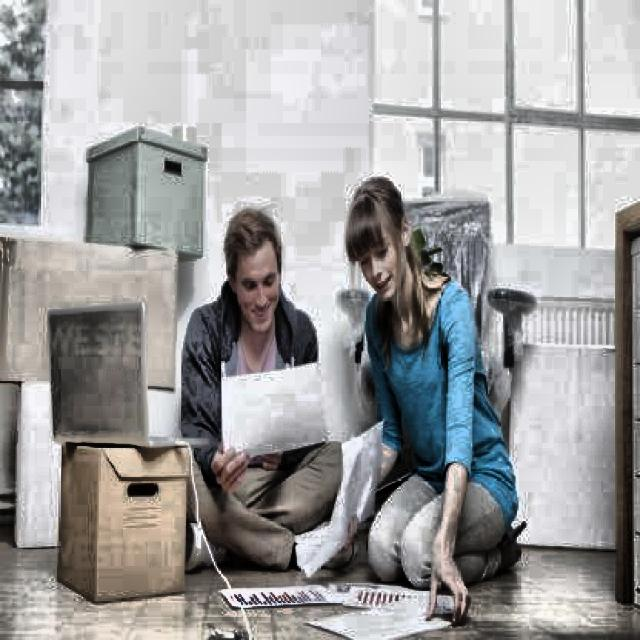Cardbox: (83, 122, 209, 252)
